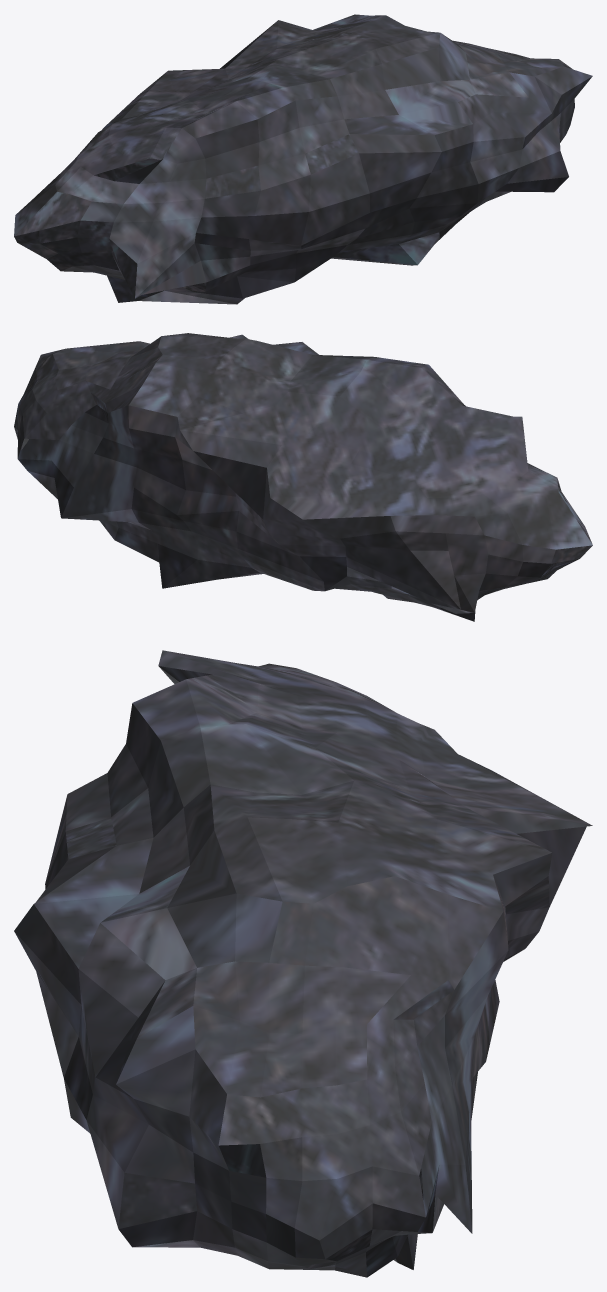
File: asteroid-2.obj
3 views of the same model, one above another, from view 1: azimuth 30°, elevation 25°; view 2: azimuth 150°, elevation 25°; view 3: azimuth 270°, elevation 25° (orthographic). The views are drawn at different scales.
Visible parts, largest first — view 1: Cube_Cube.001; view 2: Cube_Cube.001; view 3: Cube_Cube.001.
Part boxes in pixels (box(x1,y1,x2,y2)): Cube_Cube.001: box(14, 14, 592, 304); Cube_Cube.001: box(14, 333, 592, 621); Cube_Cube.001: box(14, 650, 592, 1277).
Size of the model in its own units: 5.7 by 2.16 by 2.71.
1 material, 1 textured.
